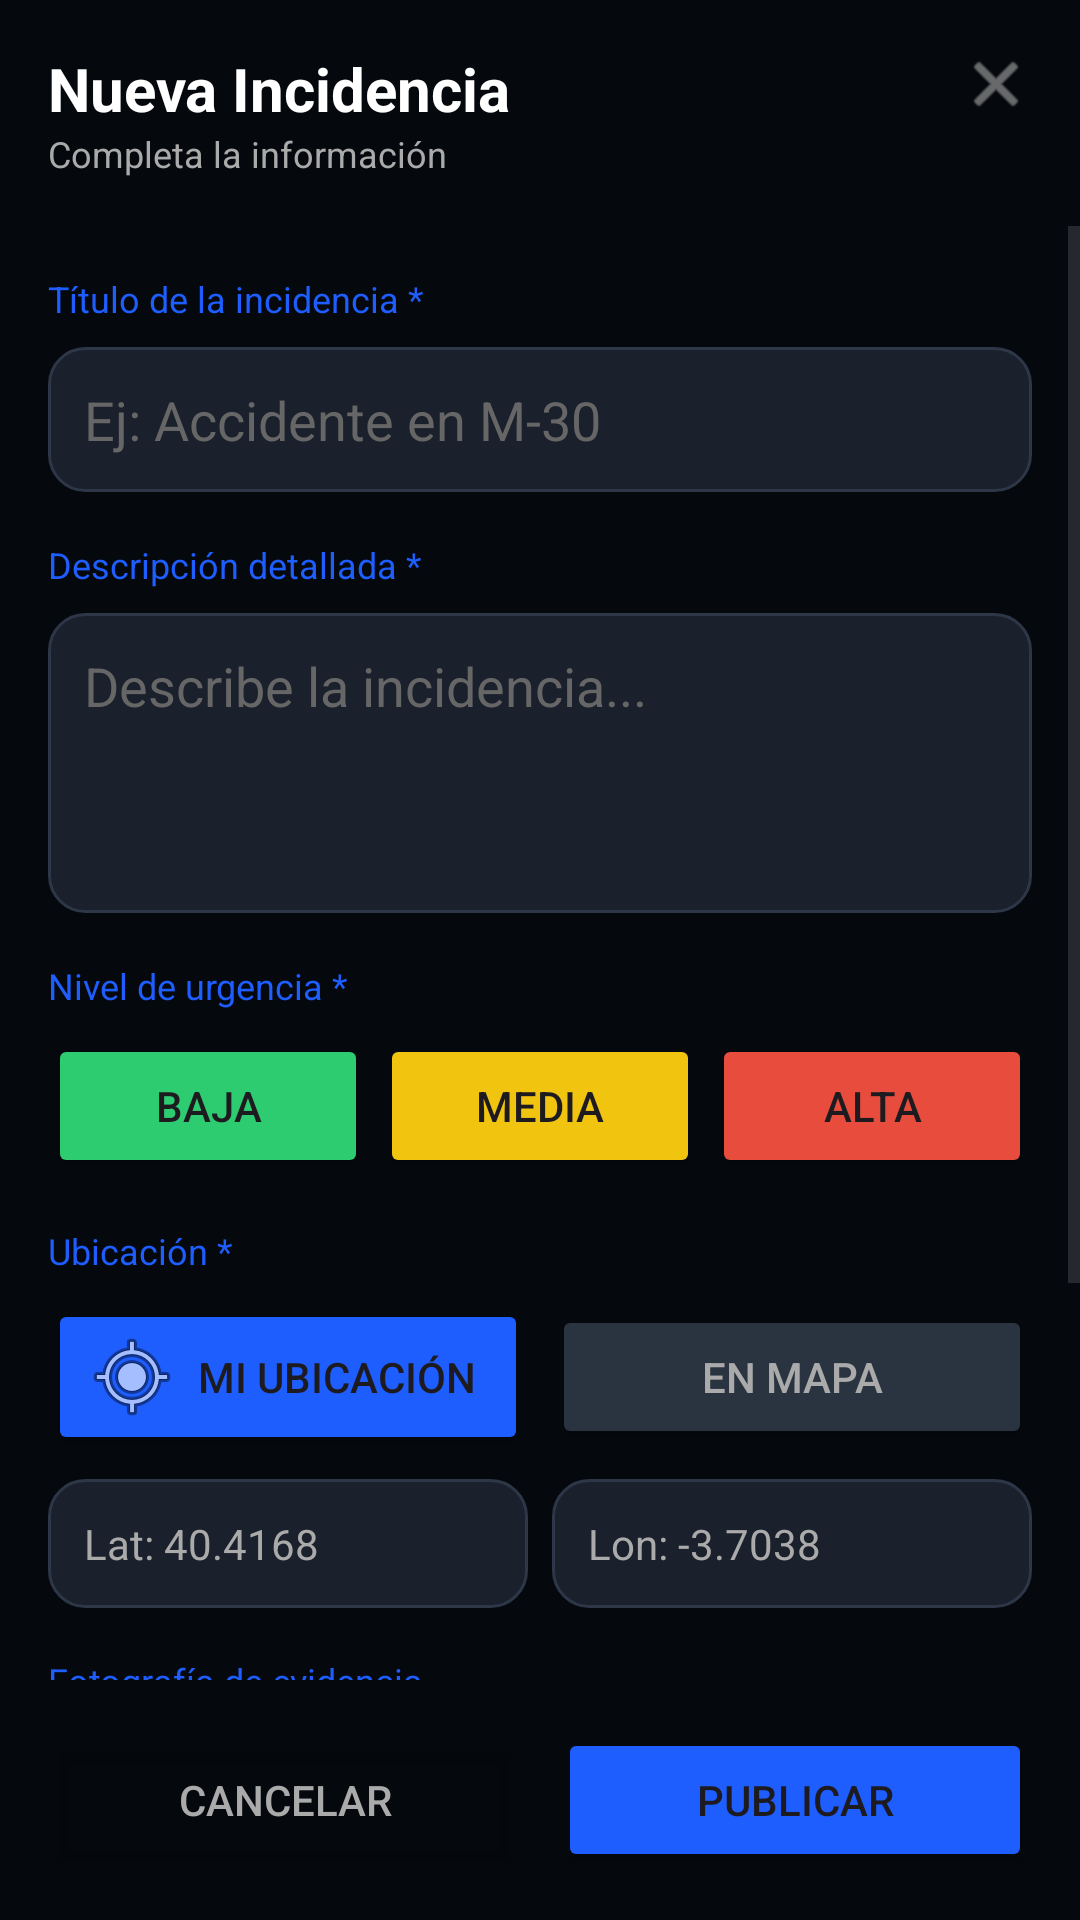

Screen size 1080x1920. Icon name, then its box in pixels as (x1, y1, x2, y2):
close clear cancel: (974, 62, 1018, 106)
